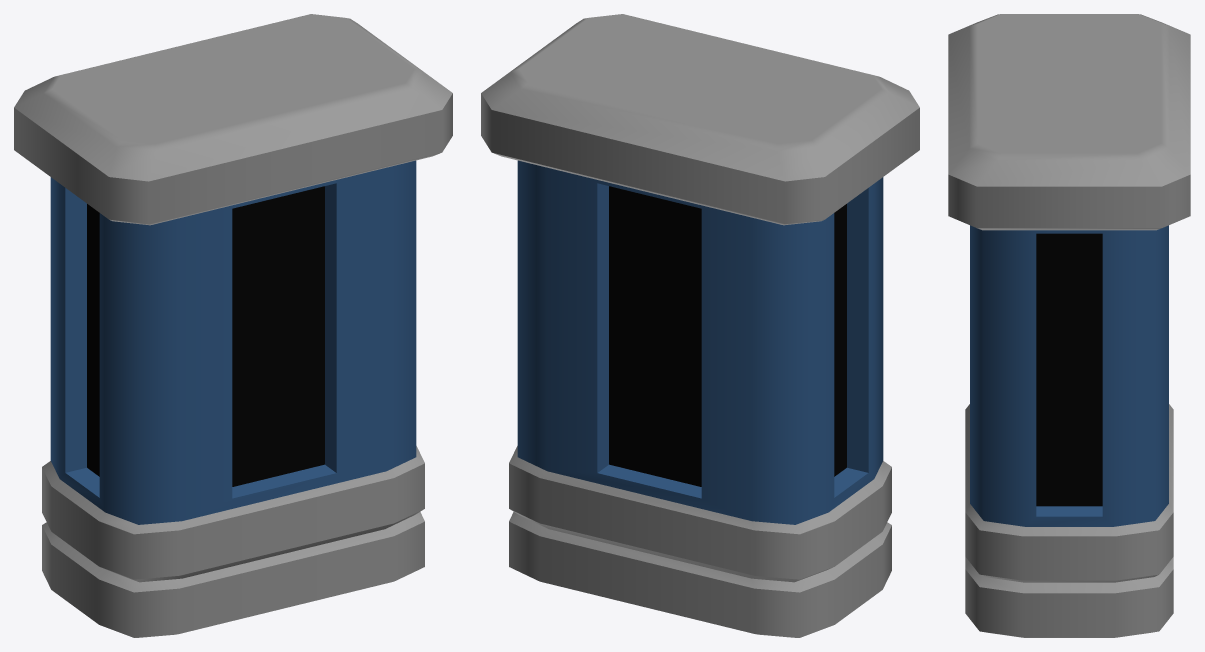
Rendered from EnergyClip.FBX.
3 views of the same model, side by side, from view 1: azimuth 30°, elevation 25°; view 2: azimuth 150°, elevation 25°; view 3: azimuth 270°, elevation 25° (orthographic). The views are drawn at different scales.
Visible parts, largest first — view 1: EnergyClip; view 2: EnergyClip; view 3: EnergyClip.
Boxes of the visible parts, left/top/right/bottom form: EnergyClip: left=14, top=14, right=452, bottom=637; EnergyClip: left=481, top=14, right=919, bottom=637; EnergyClip: left=948, top=14, right=1190, bottom=637.
Bounding box in the file's own units: 40 × 55.06 × 25.
